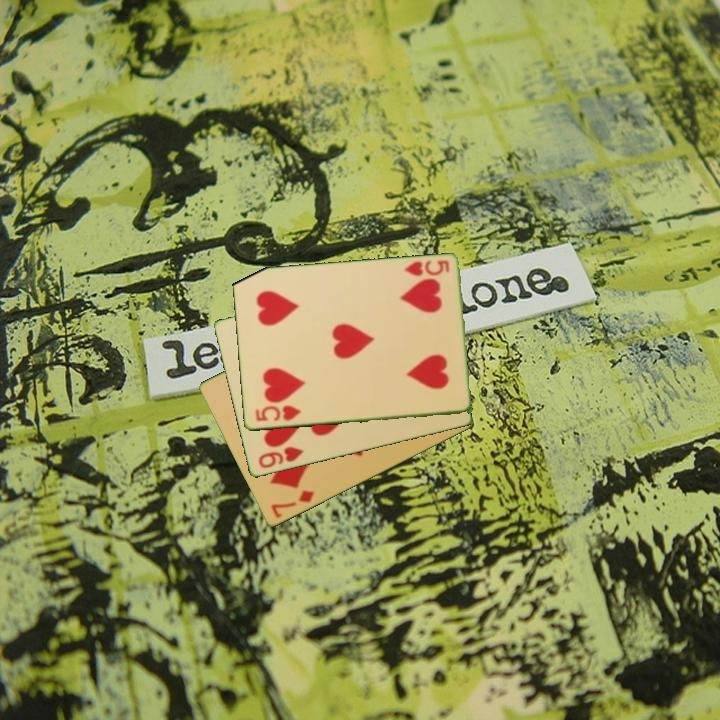5h: (251, 402, 303, 424), (401, 257, 452, 279)
7d: (267, 487, 317, 521)
9h: (255, 443, 306, 472)
